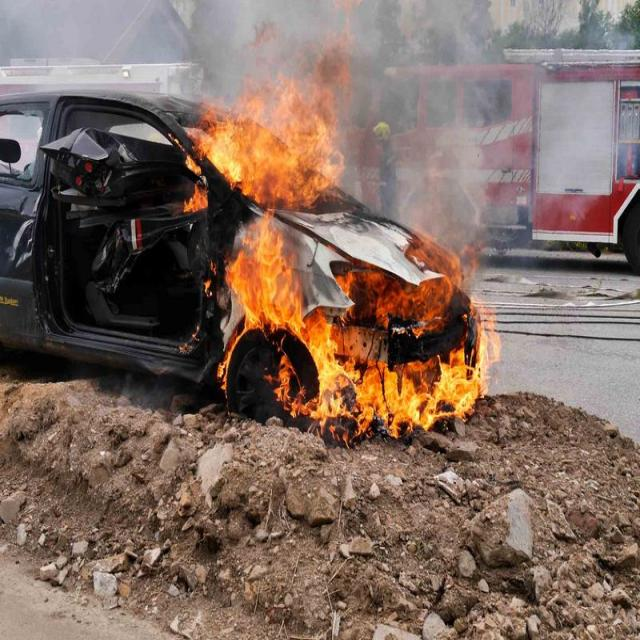fire: (315, 315, 505, 440), (199, 57, 338, 200), (233, 226, 303, 337)
